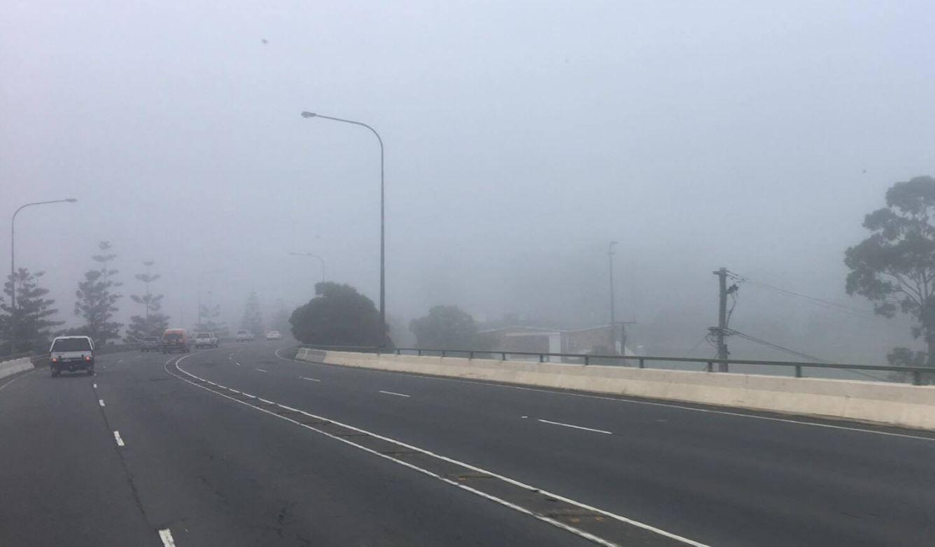car: (47, 334, 97, 379), (161, 327, 194, 355), (194, 331, 219, 349), (140, 336, 162, 353), (234, 329, 258, 343), (265, 330, 283, 342)
